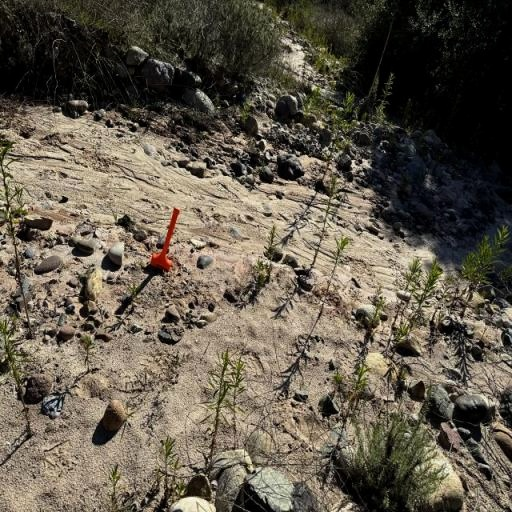mallet: (150, 206, 180, 272)
